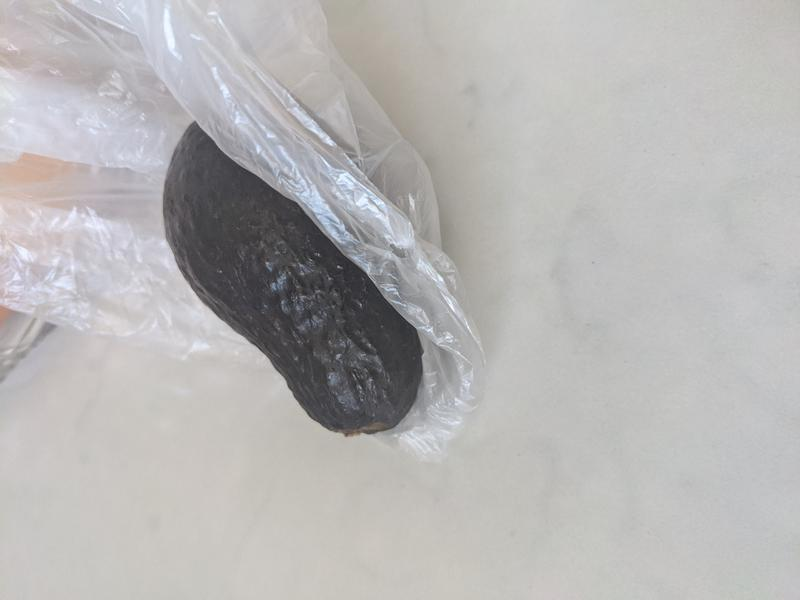avocado: (162, 119, 422, 436)
